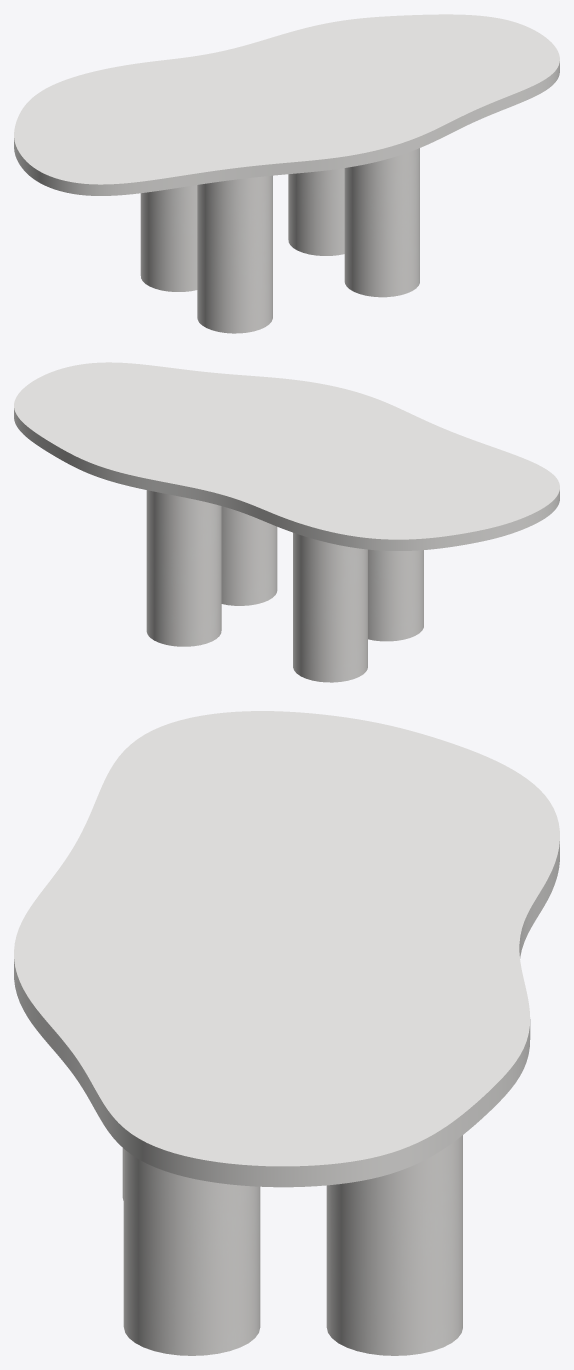
File: purewhite_toplast_standard_grove.glb
The picture shows the model from 3 angles, top to bottom: view 1: azimuth 30°, elevation 25°; view 2: azimuth 150°, elevation 25°; view 3: azimuth 270°, elevation 25°; orthographic projection. The views are drawn at different scales.
Visible parts, largest first — view 1: standard_toplast, grove; view 2: standard_toplast, grove; view 3: standard_toplast, grove.
Boxes of the visible parts, left/top/right/bottom form: standard_toplast: left=14, top=14, right=559, bottom=195; grove: left=140, top=148, right=419, bottom=333; standard_toplast: left=14, top=362, right=559, bottom=550; grove: left=146, top=490, right=423, bottom=682; standard_toplast: left=14, top=711, right=559, bottom=1187; grove: left=122, top=1135, right=462, bottom=1355.
Size of the model in its own units: 7.5 by 2.5 by 3.8.
1 material, 1 textured.
